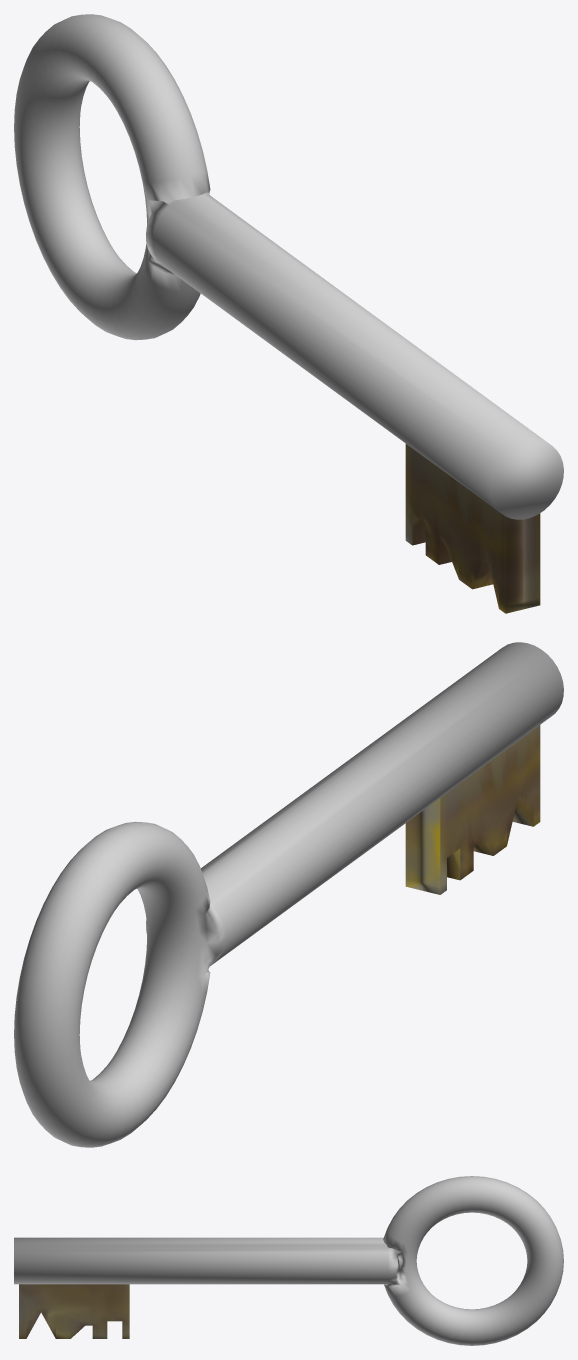
The model's file is key.fbx.
3 views of the same model, one above another, from view 1: azimuth 30°, elevation 25°; view 2: azimuth 150°, elevation 25°; view 3: azimuth 270°, elevation 25° (orthographic). The views are drawn at different scales.
Parts seen in each view (by area): view 1: Torus.001, Cube; view 2: Torus.001, Cube; view 3: Torus.001, Cube.
Boxes of the visible parts, x1,y1,x2,y2 form: Torus.001: (14,14,563,519); Cube: (405,444,540,613); Torus.001: (14,642,563,1147); Cube: (405,725,540,894); Torus.001: (14,1176,563,1345); Cube: (19,1284,129,1338).
Size of the model in its own units: 21.1 by 83.25 by 249.
